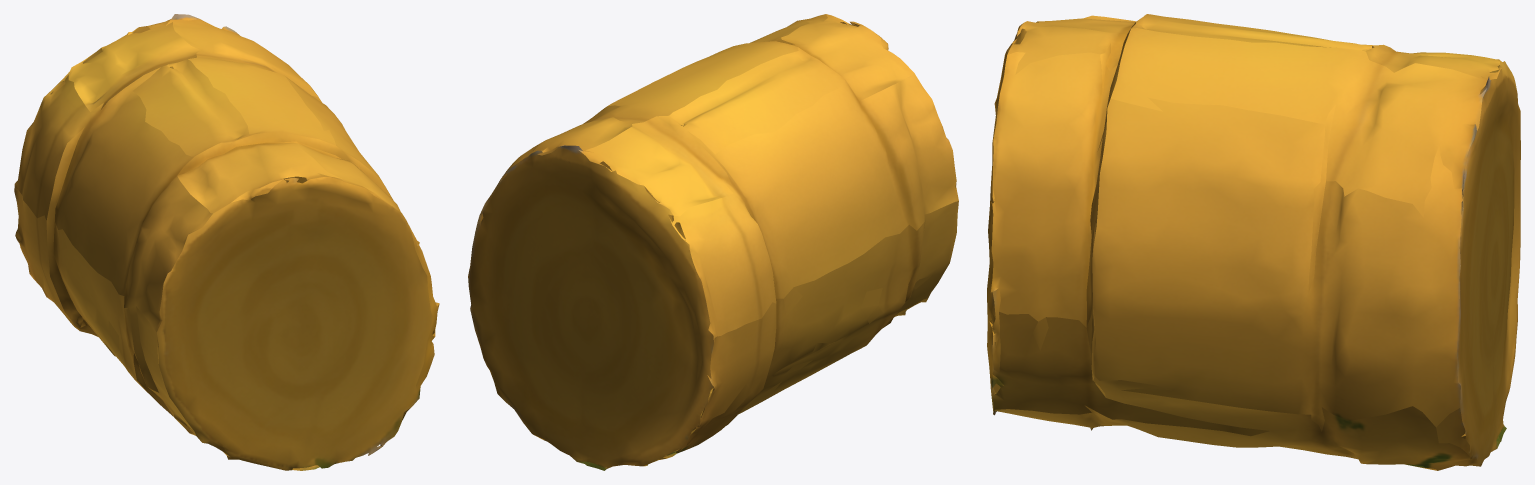
File: ENV_06_HAY.glb
3 views of the same model, side by side, from view 1: azimuth 30°, elevation 25°; view 2: azimuth 150°, elevation 25°; view 3: azimuth 270°, elevation 25° (orthographic). The views are drawn at different scales.
Parts seen in each view (by area): view 1: world; view 2: world; view 3: world.
Part boxes in pixels (<box>): world: <box>14,14,439,470</box>; world: <box>468,14,958,470</box>; world: <box>987,14,1520,470</box>.
Size of the model in its own units: 0.7464 by 0.7123 by 0.8909.
1 material, 1 textured.
